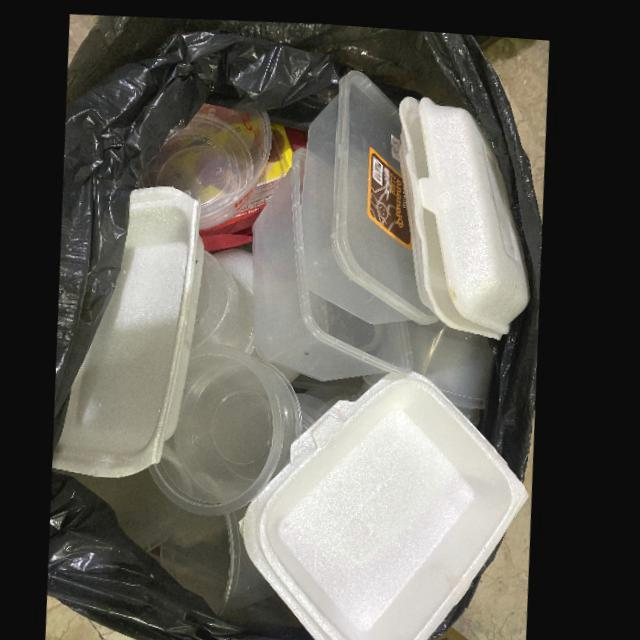plastic_container: (255, 142, 419, 376), (303, 62, 443, 318), (154, 340, 301, 512)
